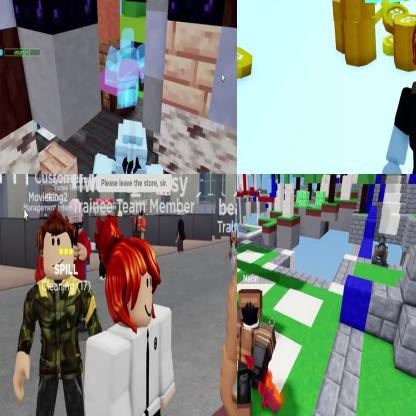Roblox-Avatar: (13, 208, 105, 416), (85, 213, 177, 416), (238, 289, 284, 416), (91, 119, 167, 174)
